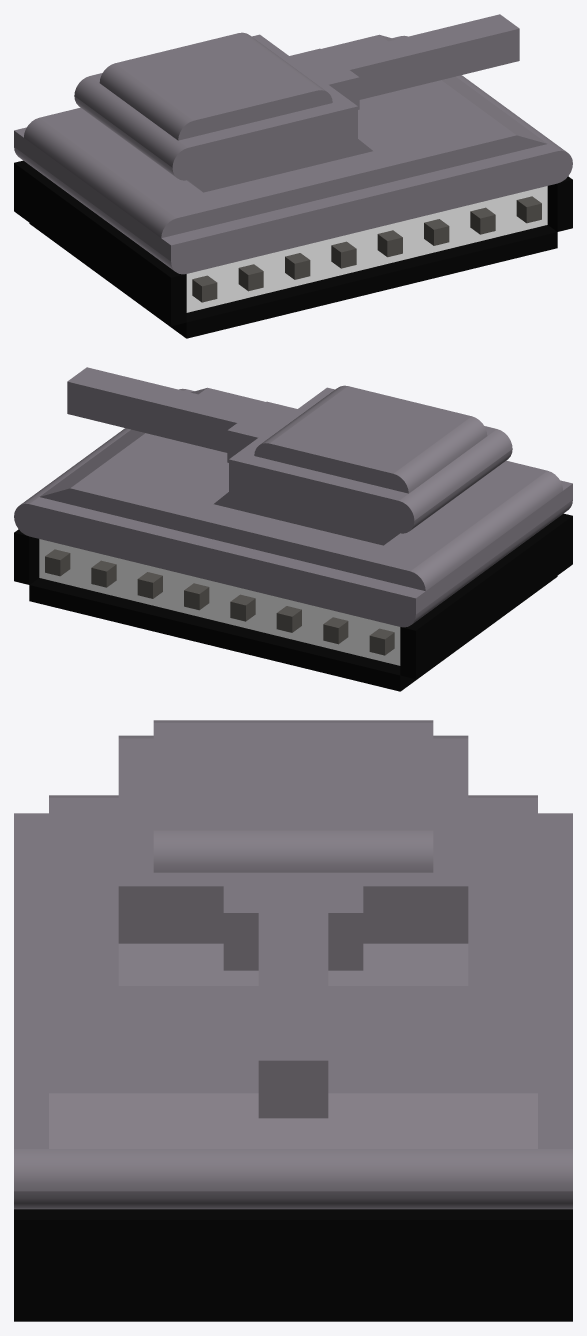
Rendered from Tank.fbx.
The picture shows the model from 3 angles, top to bottom: view 1: azimuth 30°, elevation 25°; view 2: azimuth 150°, elevation 25°; view 3: azimuth 270°, elevation 25°; orthographic projection. The views are drawn at different scales.
Parts seen in each view (by area): view 1: generated; view 2: generated; view 3: generated.
Part boxes in pixels (<box>): generated: <box>14,14,572,338</box>; generated: <box>14,367,572,691</box>; generated: <box>14,720,572,1321</box>.
Bounding box in the file's own units: 270 × 110 × 176.
